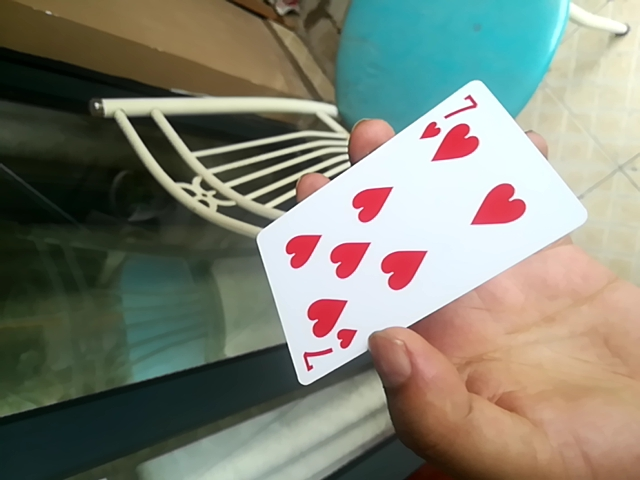hx 7: (250, 84, 585, 385)
